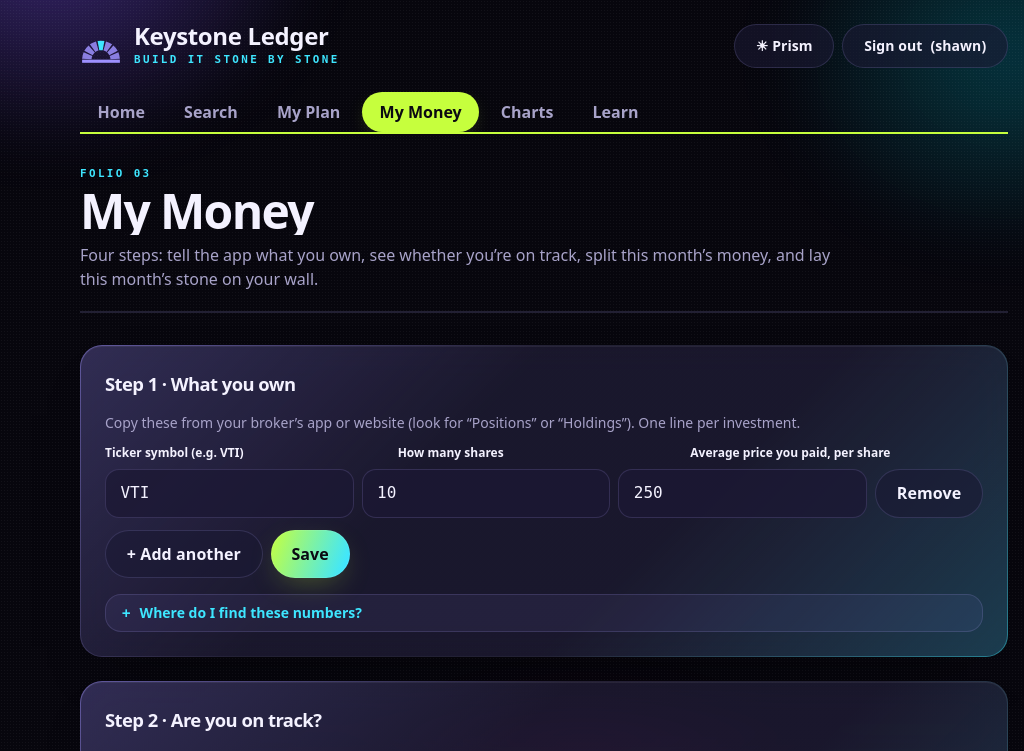
it: My Money › saves holdings with the CSRF token and shows drift
Click the button "Save": (310, 554) [271, 530, 350, 578]
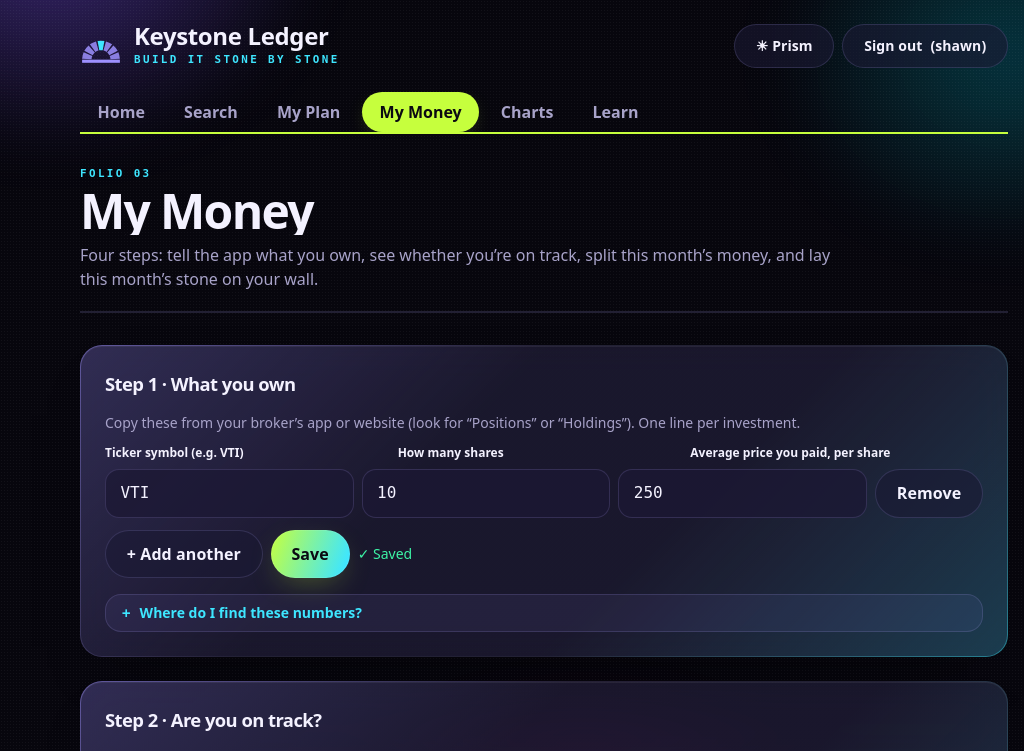
Now the text "✓ Saved" is shown, box [358, 544, 412, 564]
